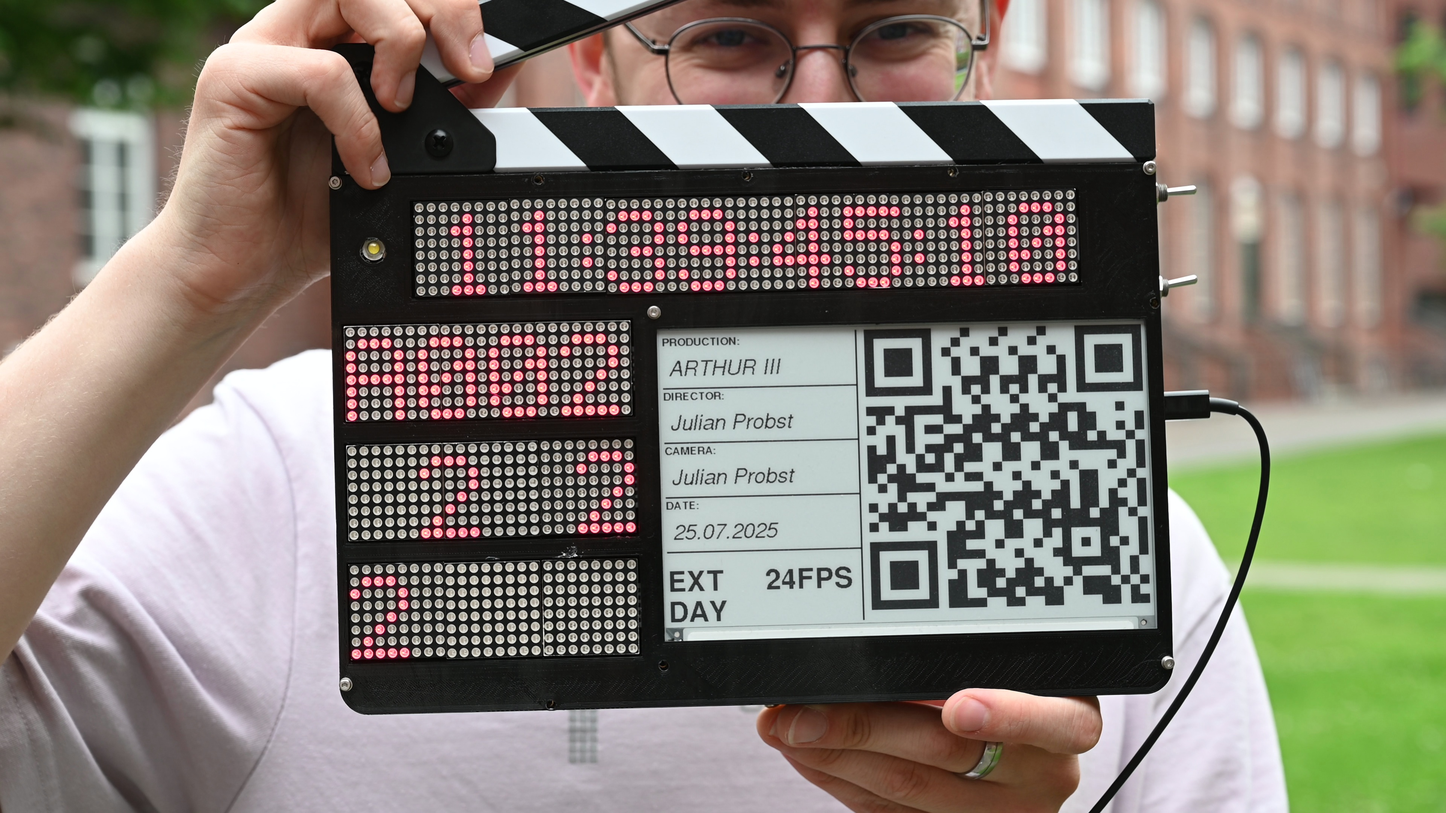ARC-SLATE: (329, 97, 1177, 720)
